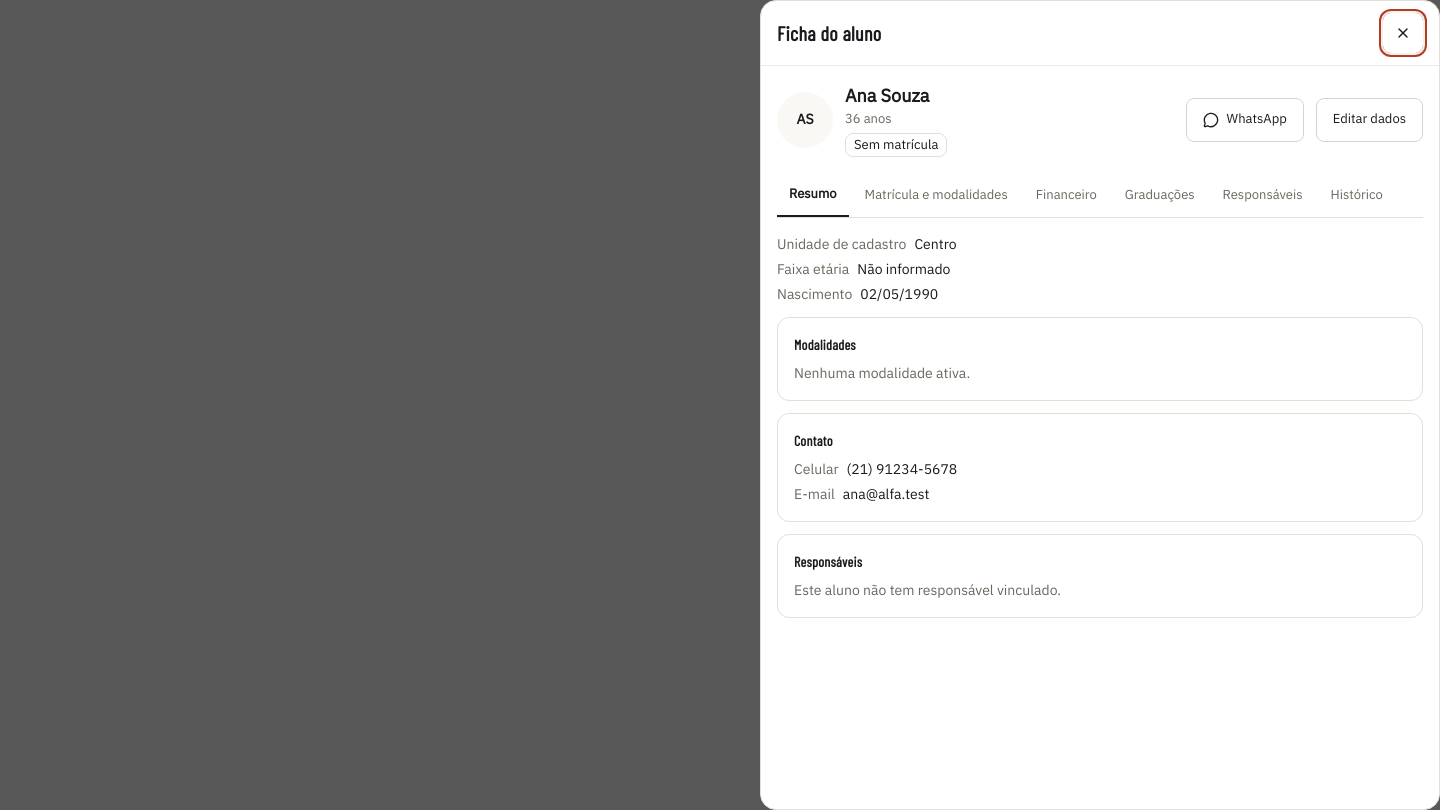
aba Financeiro da ficha (RF-COB-02, R14) › CA20: 403 mostra sem permissão
This screenshot has width=1440, height=810.
Click the tab "Financeiro". click: click(1066, 195)
box: [1024,173,1109,217]
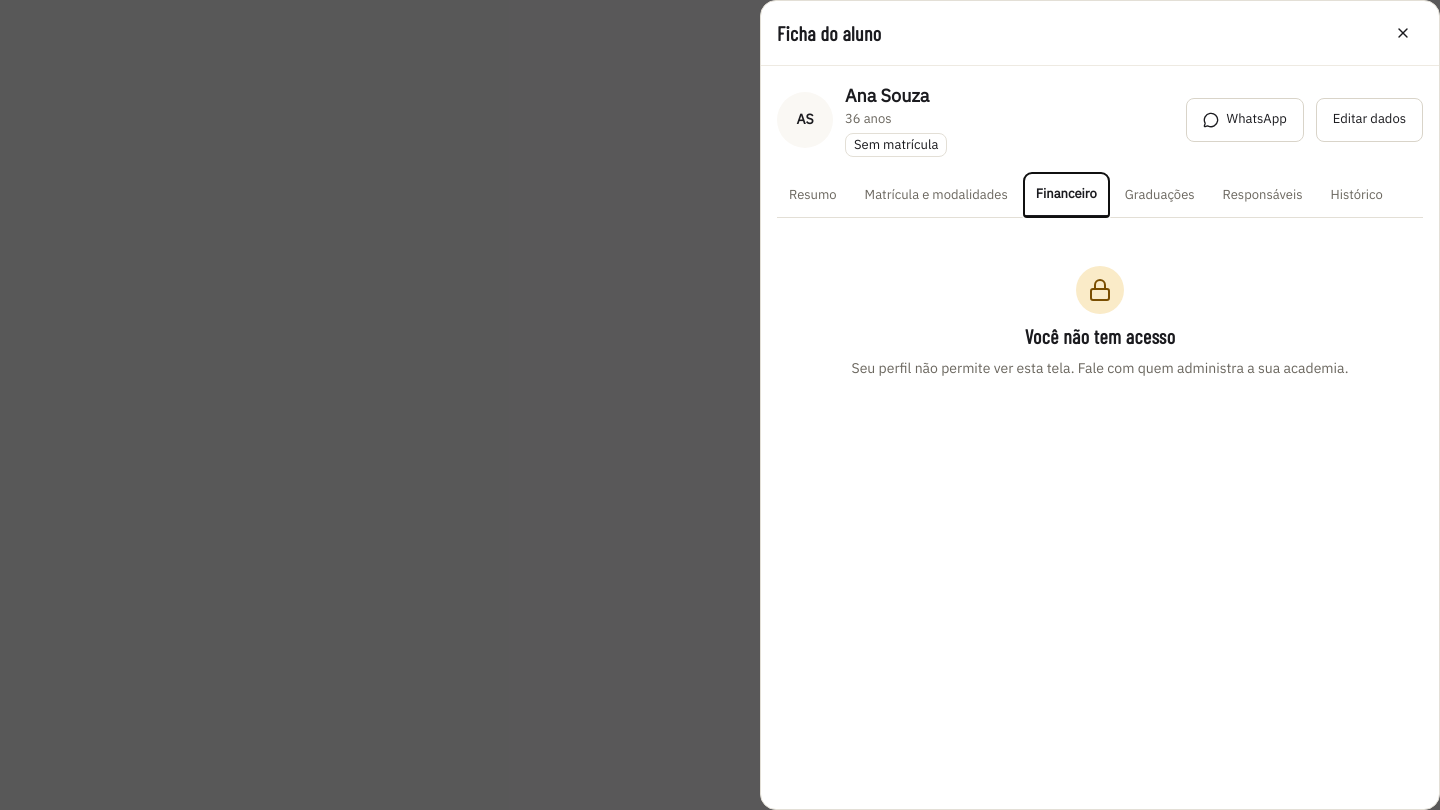
expect the heading "Você não tem acesso" is shown: met, box [1025,322,1175,350]
